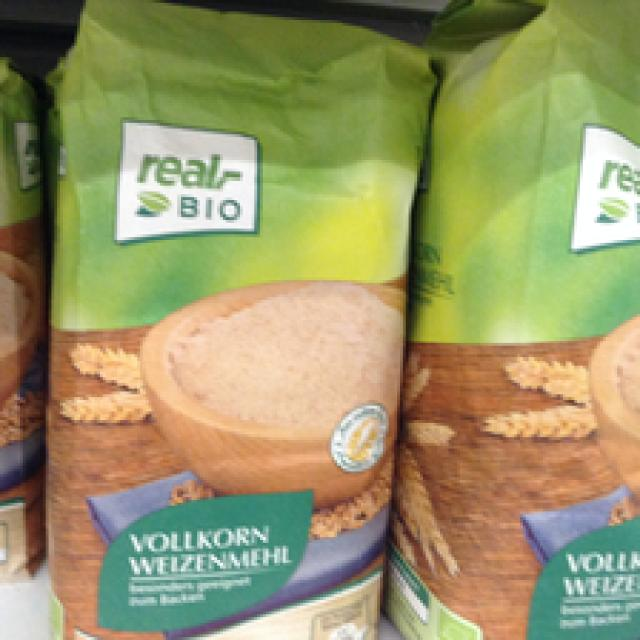groceries: (37, 0, 428, 634), (386, 0, 637, 620)
